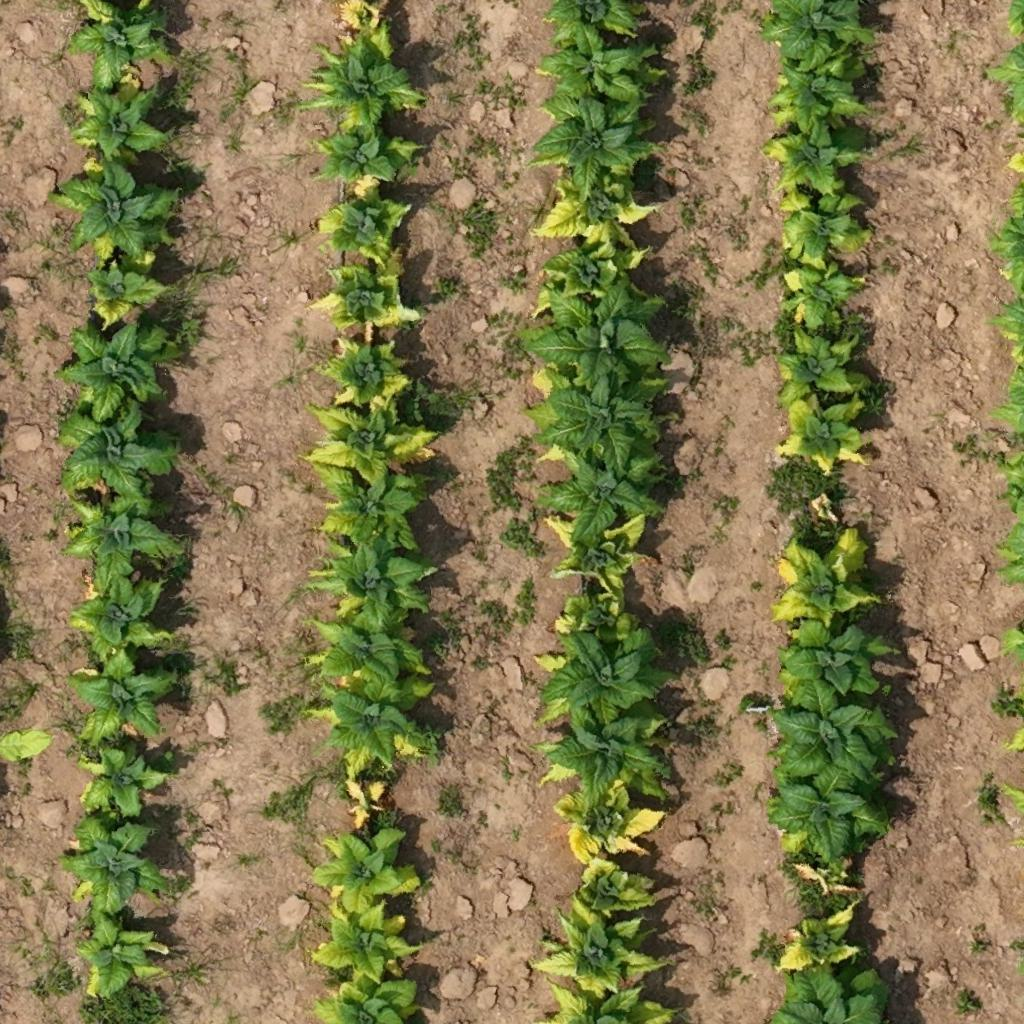healthy: (528, 696, 681, 814), (524, 620, 678, 734), (526, 282, 678, 392), (535, 83, 660, 201), (538, 441, 666, 549), (769, 678, 896, 785), (56, 399, 176, 507), (768, 763, 894, 864), (302, 458, 426, 555), (64, 494, 186, 590), (63, 810, 176, 912), (536, 18, 664, 108), (299, 607, 437, 686), (64, 325, 174, 423), (778, 616, 896, 700), (776, 181, 884, 271), (766, 49, 870, 134), (761, 0, 875, 72), (774, 326, 868, 408), (76, 736, 168, 819), (312, 115, 424, 181), (310, 972, 422, 1022), (540, 0, 644, 36)
light_disease: (562, 778, 662, 866), (536, 178, 652, 244), (778, 898, 872, 976)
moderate_disease: (524, 350, 672, 474), (52, 151, 191, 277), (522, 896, 682, 996), (300, 532, 435, 636), (305, 19, 424, 132), (305, 680, 436, 778), (766, 520, 882, 630), (302, 249, 428, 337), (302, 396, 438, 477), (68, 566, 179, 665), (523, 236, 655, 319), (66, 1, 184, 87), (70, 648, 170, 748), (318, 822, 425, 914), (540, 502, 650, 590), (68, 74, 176, 158), (72, 913, 176, 1000), (318, 172, 410, 270), (317, 902, 423, 984), (761, 114, 863, 196), (778, 388, 876, 473), (323, 330, 407, 414), (778, 258, 864, 330), (573, 852, 663, 918), (85, 262, 164, 332), (548, 586, 630, 637)
severe_disease: (338, 776, 390, 834), (794, 857, 860, 897), (334, 2, 386, 36), (805, 488, 845, 528)
